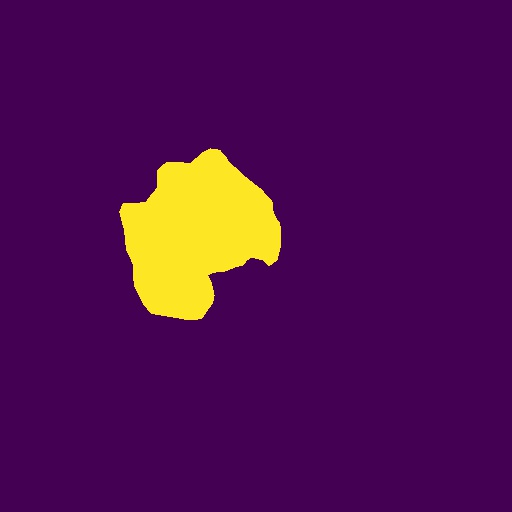Gliomia_tumour: (119, 148, 281, 320)
